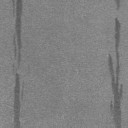red iron: (107, 16, 124, 128), (12, 0, 23, 68), (12, 73, 21, 128), (114, 0, 120, 11)
